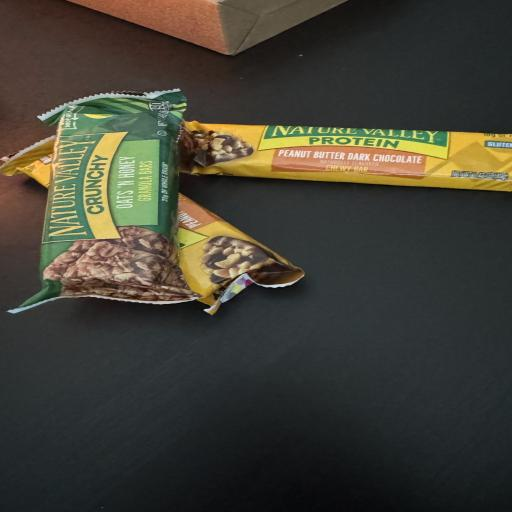granola: (12, 90, 198, 312), (182, 122, 511, 191), (178, 194, 304, 314)
